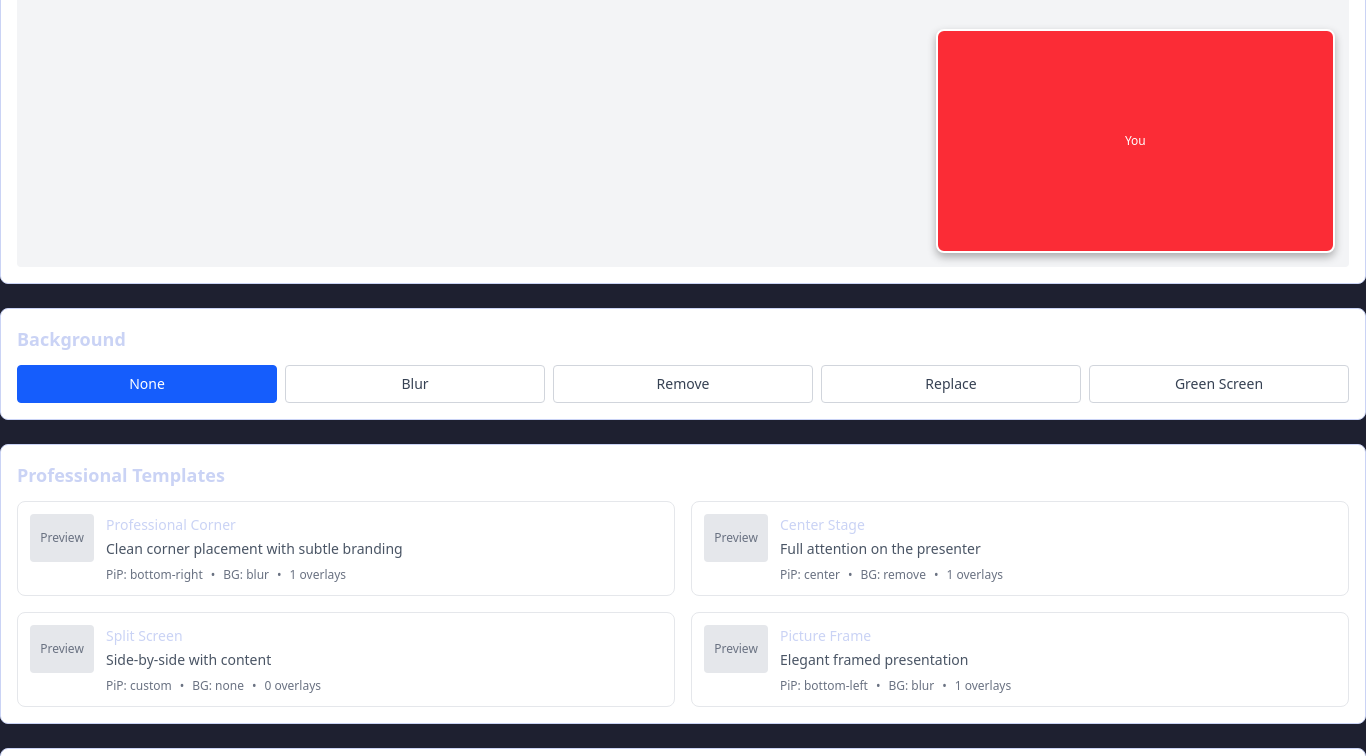
it: YouTrackFeatures › shows green screen options when selected
(page scrolled)
Click the button "Green Screen".
click(1219, 384)  # box [1089,365,1349,403]
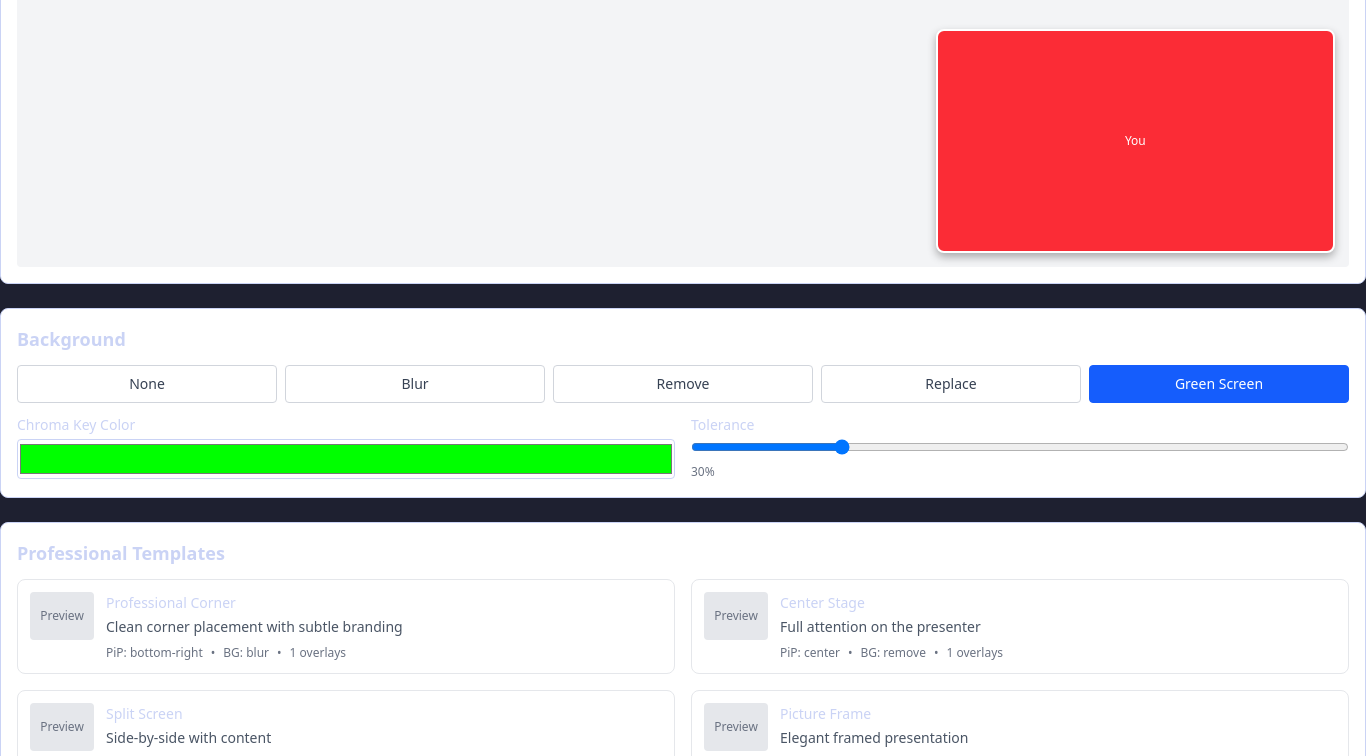
Now the text "Chroma Key Color" is shown, box [17,415,135,434]
Now the text "Tolerance" is shown, box [691,415,754,434]
